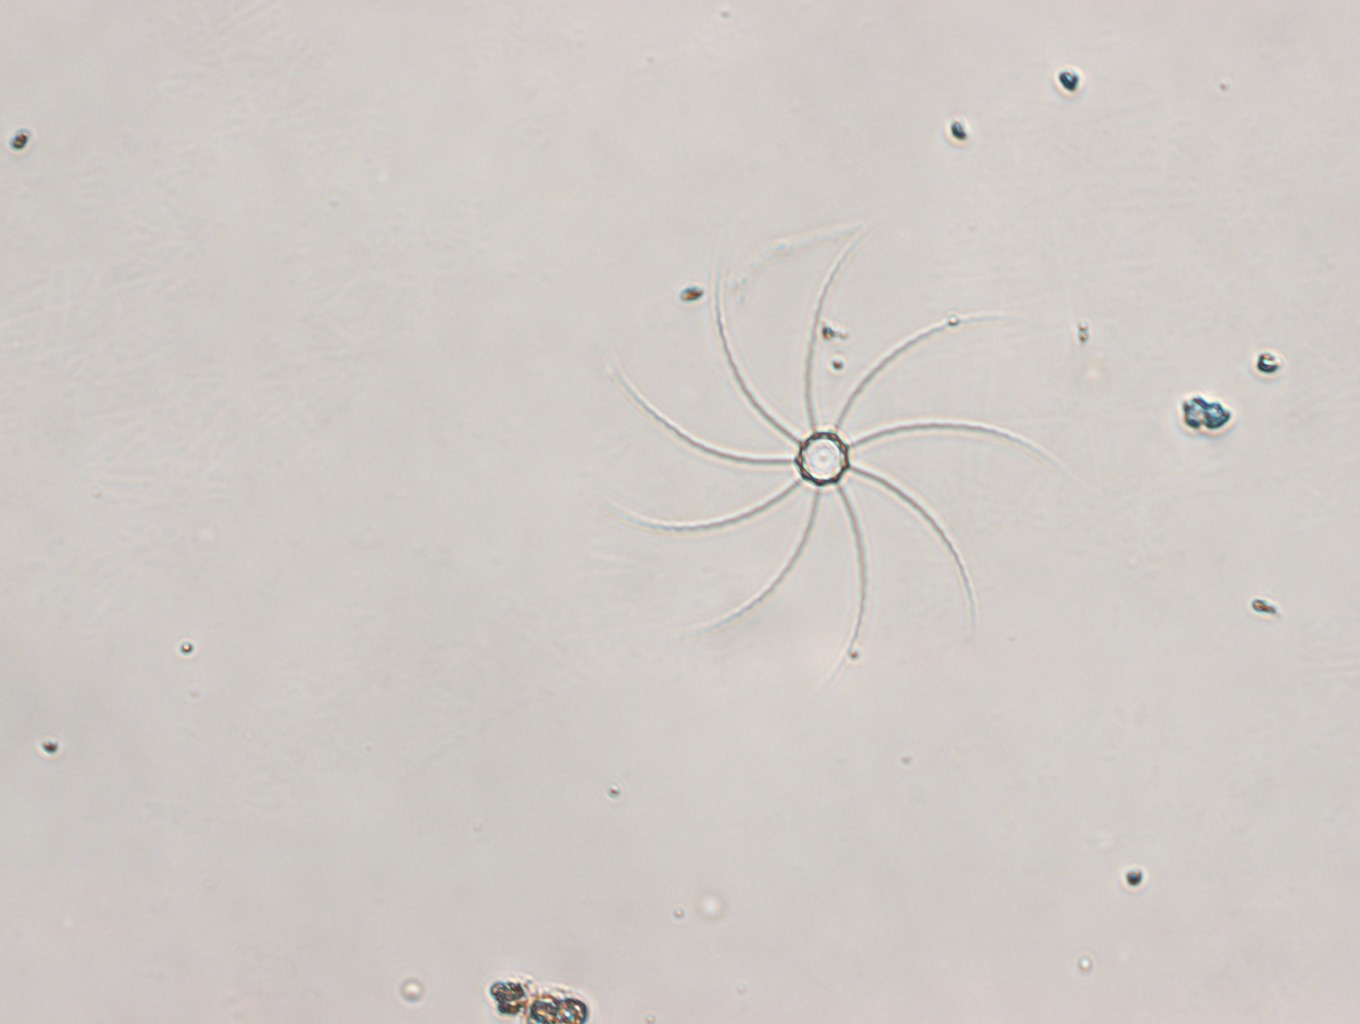bacteriastrum: (590, 233, 1076, 700)
